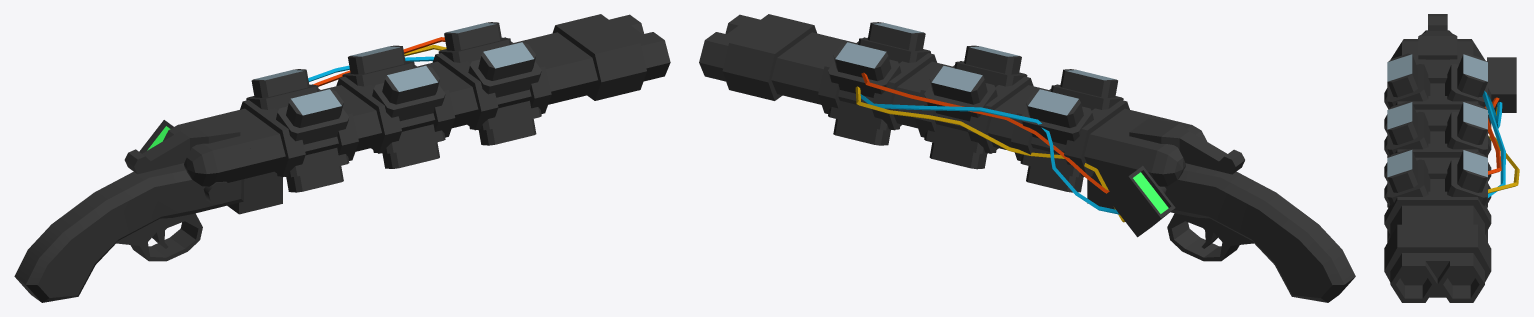
Rendered from shotgun.glb.
3 renders of one model, left to right at view 1: azimuth 30°, elevation 25°; view 2: azimuth 150°, elevation 25°; view 3: azimuth 270°, elevation 25°, orthographic.
Parts seen in each view (by area): view 1: barrel, handle, wires, prop; view 2: barrel, handle, wires, prop; view 3: barrel, handle, prop, wires.
Part boxes in pixels (left/top/right/bottom): barrel: left=214, top=14, right=670, bottom=214; handle: left=14, top=116, right=254, bottom=302; wires: left=308, top=37, right=446, bottom=86; prop: left=139, top=120, right=230, bottom=203; barrel: left=699, top=14, right=1155, bottom=209; handle: left=1115, top=116, right=1355, bottom=302; wires: left=855, top=72, right=1124, bottom=222; prop: left=1105, top=166, right=1175, bottom=237; barrel: left=1384, top=53, right=1491, bottom=302; handle: left=1390, top=14, right=1484, bottom=59; prop: left=1487, top=57, right=1516, bottom=112; wires: left=1482, top=91, right=1519, bottom=197.
Bounding box in the file's own units: 0.7544 × 0.1757 × 0.1387.
